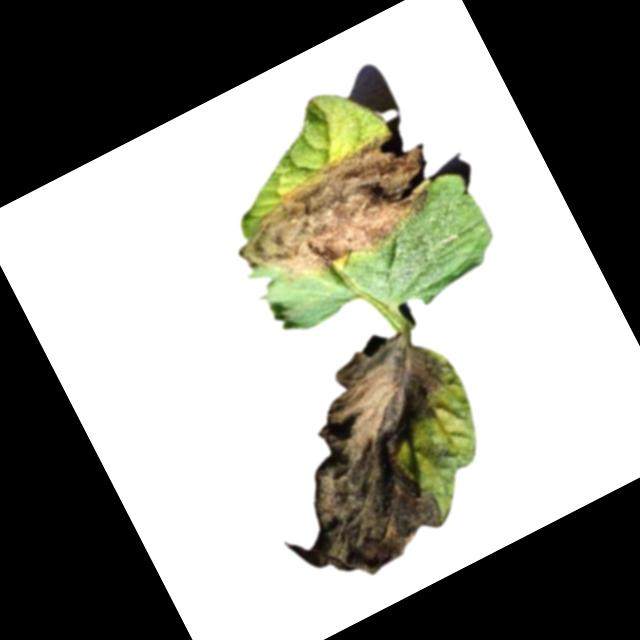Late_blight: (218, 314, 511, 601), (219, 117, 458, 311)
